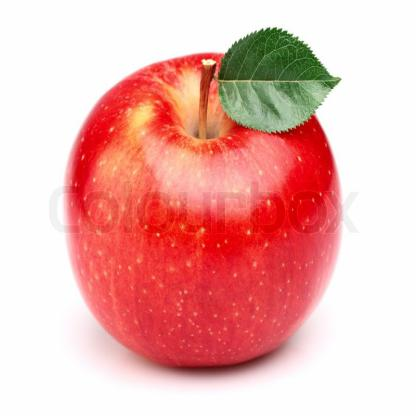Apple leaf: (217, 21, 345, 142)
